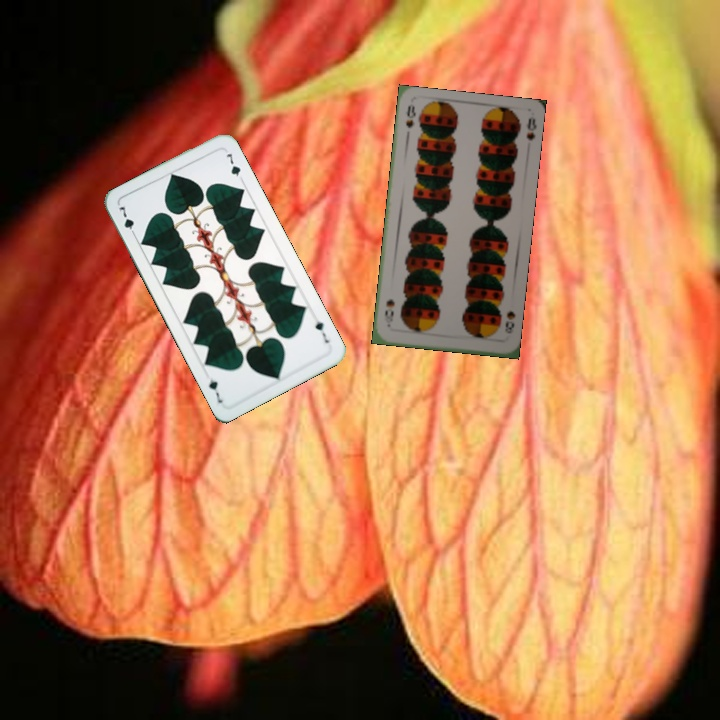G7: (115, 202, 139, 240), (311, 317, 332, 345)
S8: (501, 307, 518, 336), (402, 101, 418, 130)
